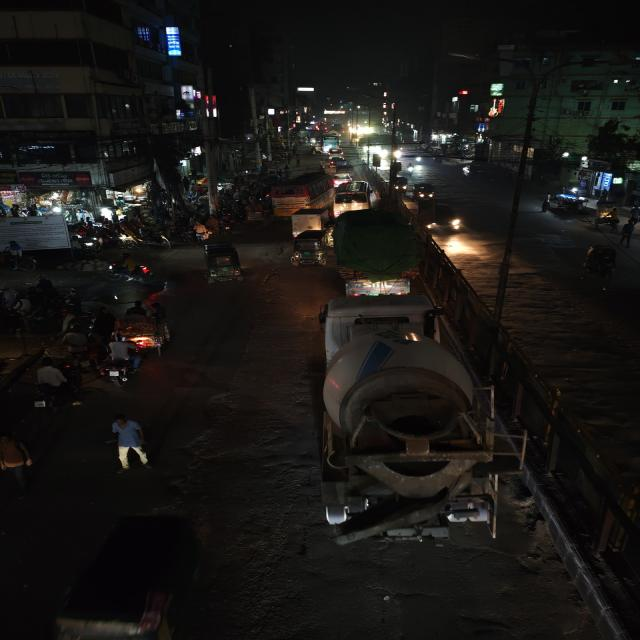bus: (269, 172, 336, 214), (321, 135, 341, 148)
car: (327, 177, 379, 215), (428, 198, 464, 236), (327, 147, 345, 159)
cng: (200, 241, 248, 286), (289, 227, 328, 269), (408, 181, 437, 201), (391, 174, 410, 192)
motorcycle: (29, 276, 81, 322), (91, 343, 140, 387), (105, 252, 156, 286), (403, 162, 418, 178)
pedestrian: (106, 412, 152, 472), (34, 359, 76, 415), (0, 428, 37, 488), (619, 219, 637, 246), (540, 190, 552, 213)
pickup_van: (328, 216, 432, 300)
rickshaw: (113, 298, 178, 354), (577, 243, 624, 285), (588, 211, 622, 233)
truck: (302, 294, 512, 554), (285, 209, 328, 235), (330, 160, 356, 178)
